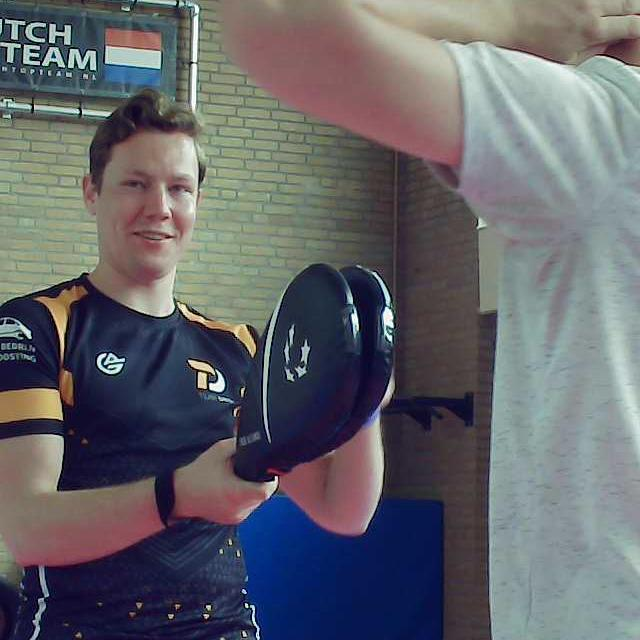paddle: (231, 264, 396, 485)
